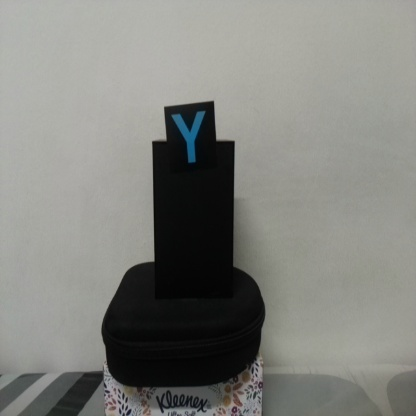id_14: (164, 106, 217, 177)
